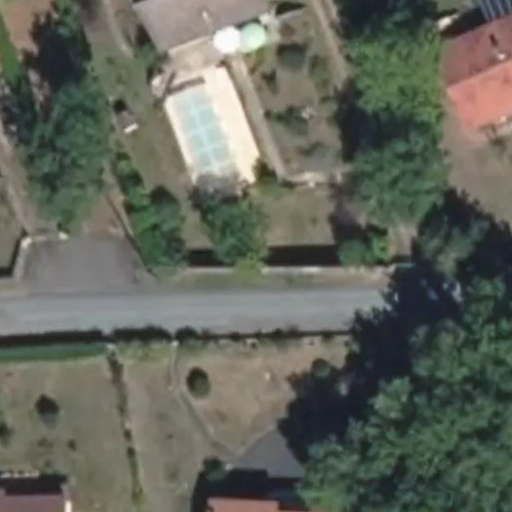pool: (226, 209, 282, 270)
